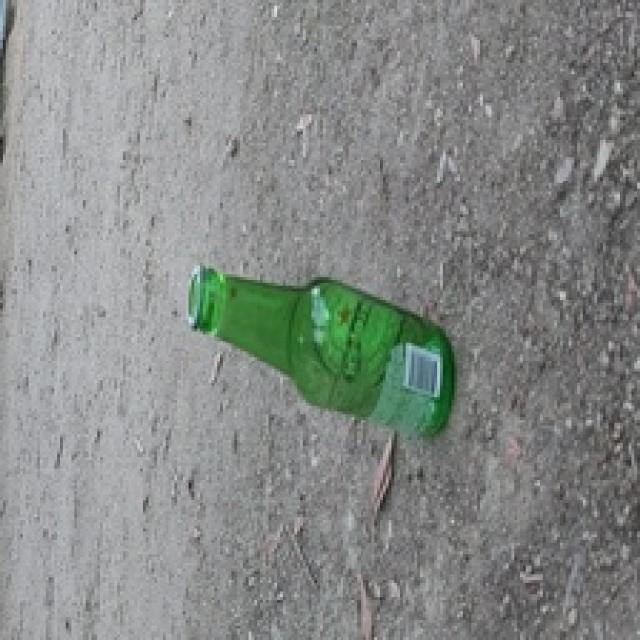Glass: (180, 269, 460, 442)
